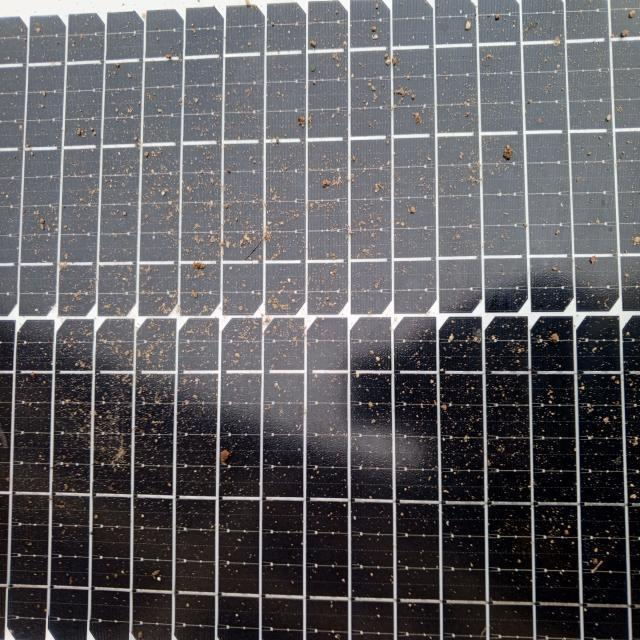Anomaly Solar Panel: (6, 10, 635, 638)
Surface Contaminant: (8, 13, 628, 629)
